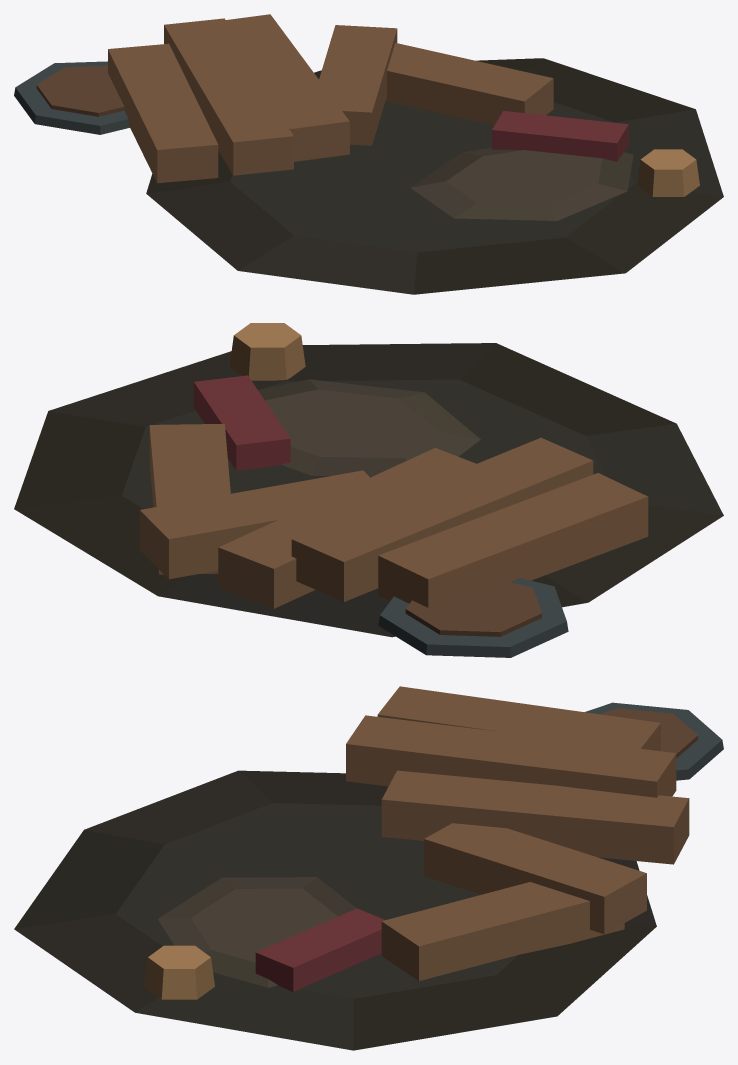
Rendered from pitch-cask-spilled.glb.
3 views of the same model, one above another, from view 1: azimuth 30°, elevation 25°; view 2: azimuth 150°, elevation 25°; view 3: azimuth 270°, elevation 25° (orthographic). The views are drawn at different scales.
Parts seen in each view (by area): view 1: Pitch cask · spilled; view 2: Pitch cask · spilled; view 3: Pitch cask · spilled.
Boxes of the visible parts, x1,y1,x2,y2 form: Pitch cask · spilled: (14,14,723,294); Pitch cask · spilled: (14,323,723,657); Pitch cask · spilled: (14,686,723,1050).
Bounding box in the file's own units: 0.8785 × 0.1185 × 0.8775.
